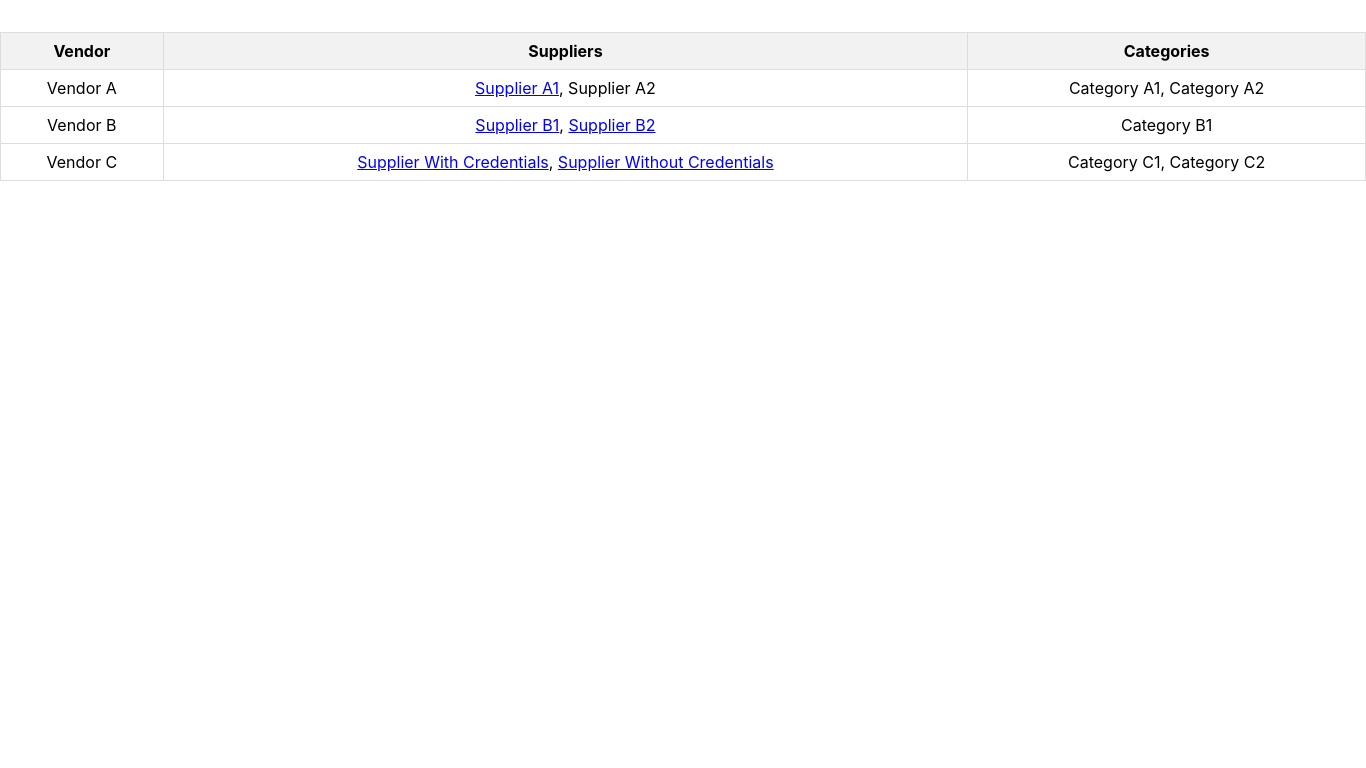
Scenario: VendorsTable with isUserLoggedIn true › renders additional fields when isUserLoggedIn is true
Step 1. Click the text "Supplier A1" → (517, 88), box x1=475 y1=78 x2=559 y2=98
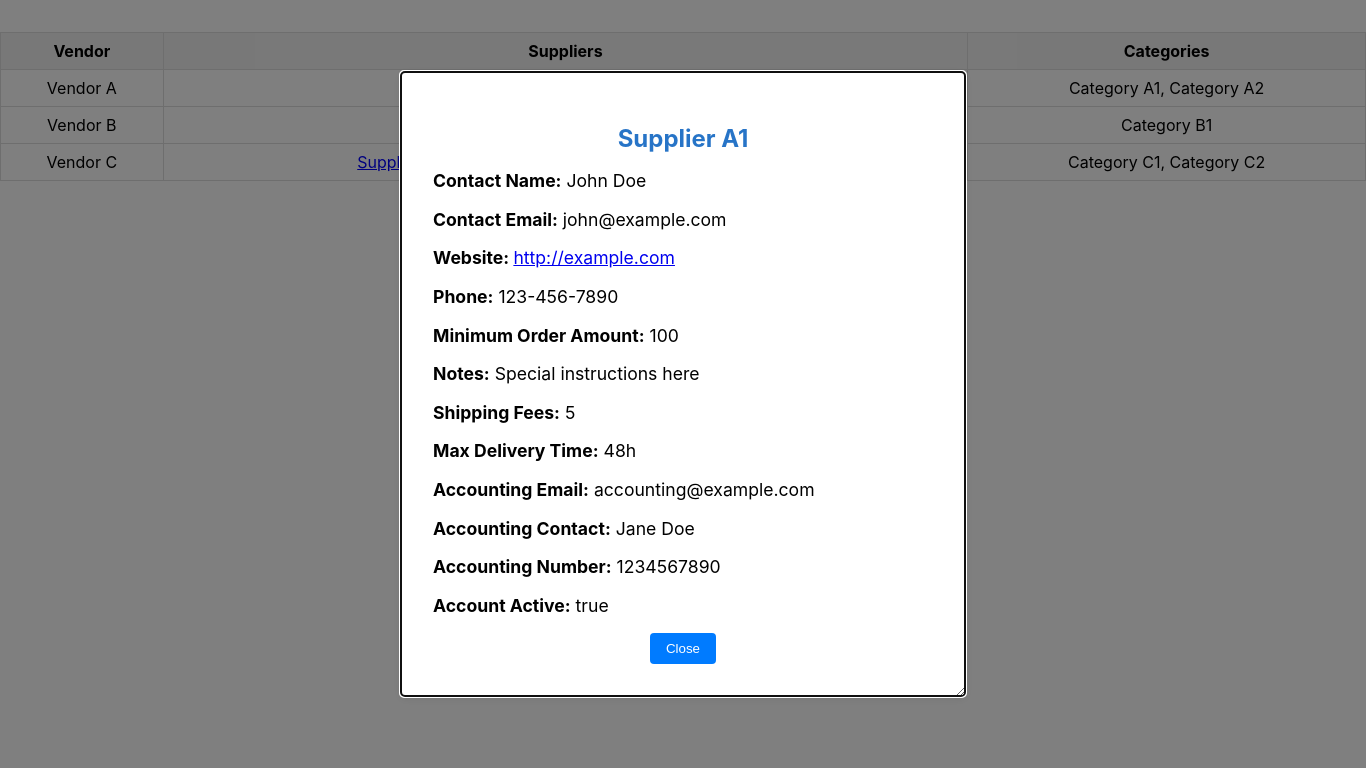
expect the text "Minimum Order Amount:" is shown: met, box x1=433 y1=325 x2=644 y2=346
expect the text "Notes:" is shown: met, box x1=433 y1=363 x2=490 y2=384
expect the text "Shipping Fees:" is shown: met, box x1=433 y1=402 x2=560 y2=423
